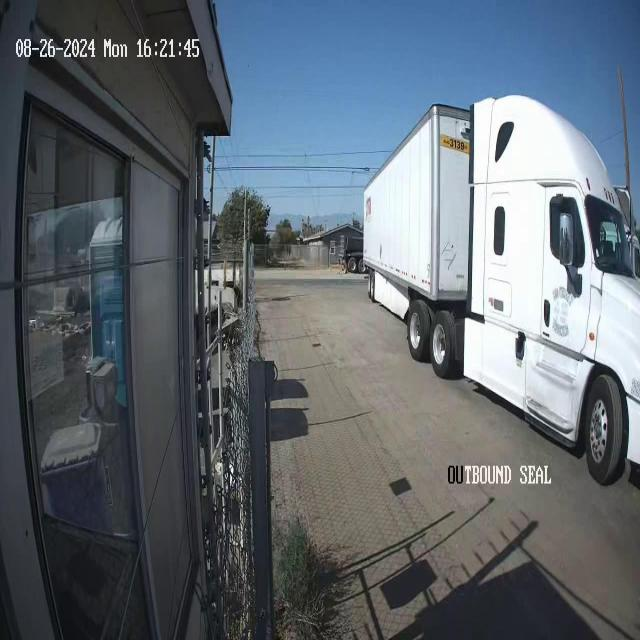TRUCK_IN: (356, 92, 640, 492)
